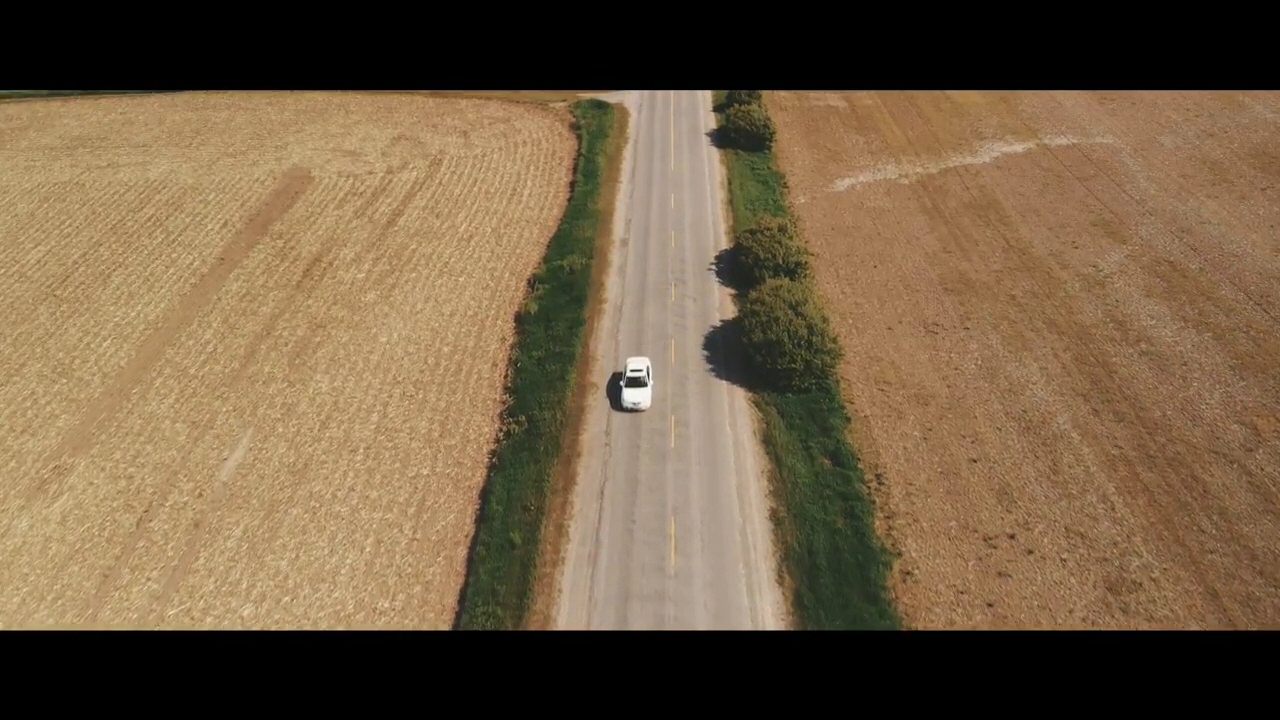araba: (618, 355, 653, 414)
